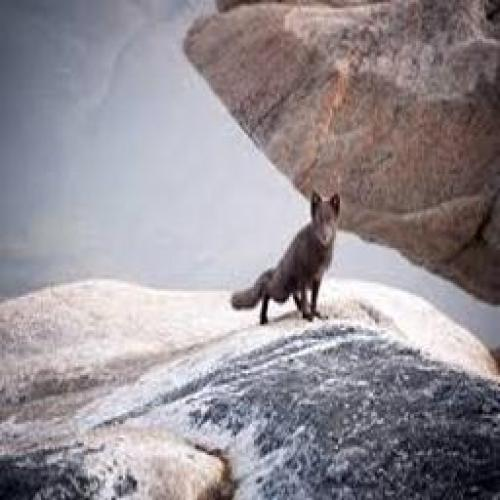arctic_fox-endangered: (232, 193, 341, 323)
